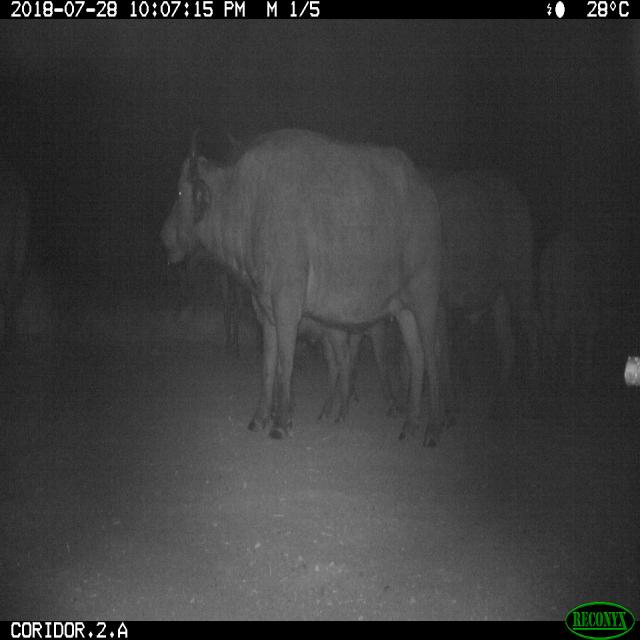buffalo: (168, 125, 465, 444)
